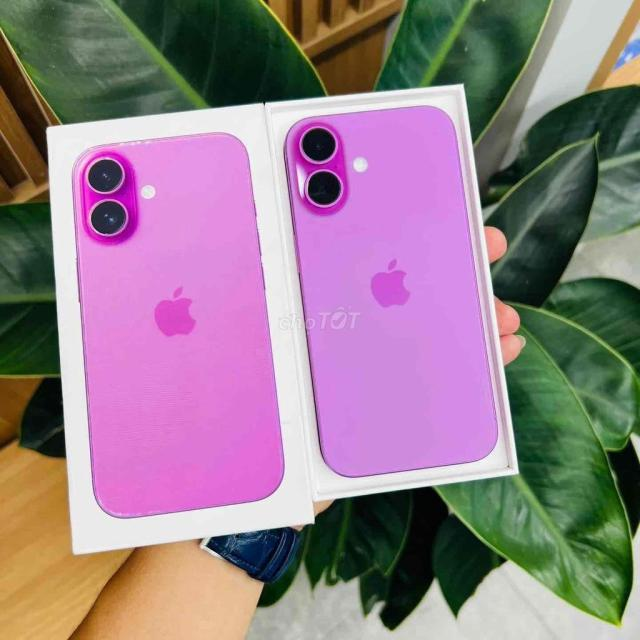gen_16: (280, 97, 503, 475)
